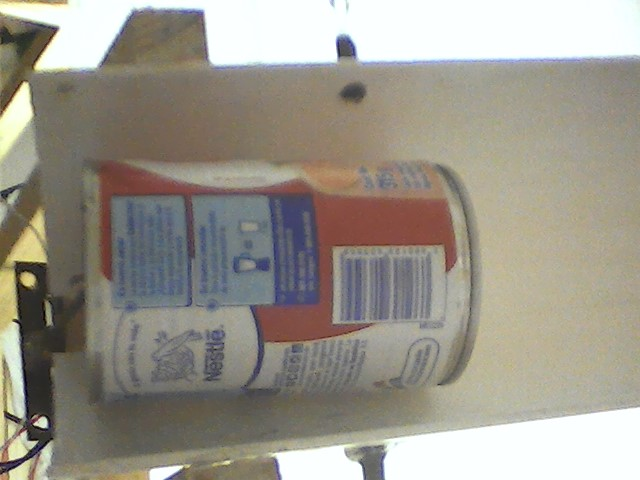lata: (74, 150, 491, 414)
